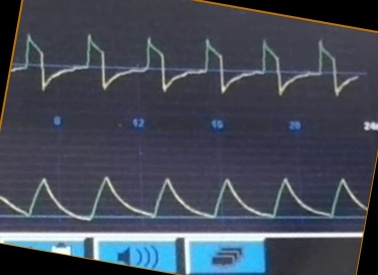Normal Flow: (17, 29, 357, 103)
Normal Volume: (1, 155, 365, 224)
